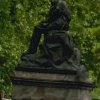Statue: (15, 4, 85, 72)
